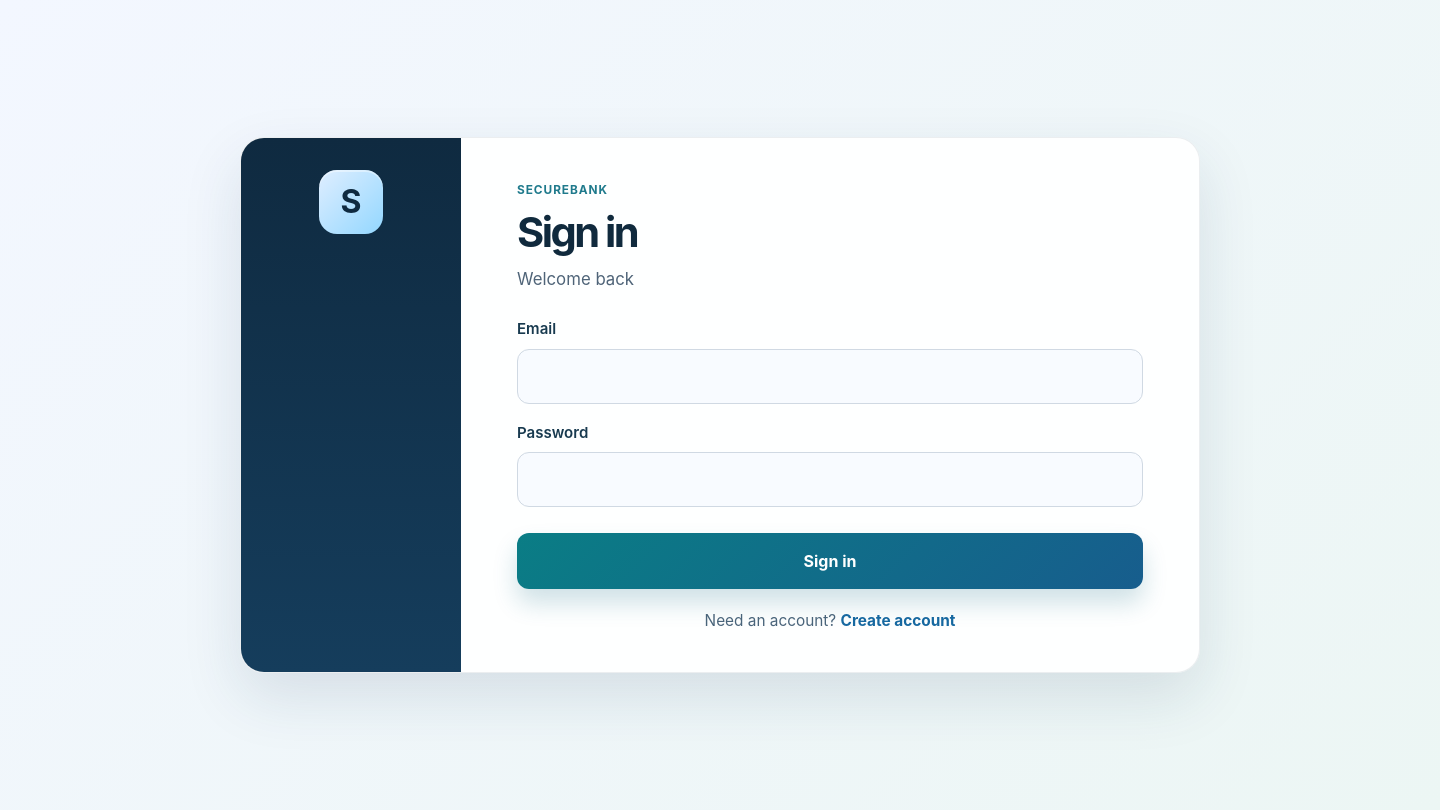
it: Signup screen › renders the dashboard after a successful sign in
This screenshot has width=1440, height=810.
Type "jane.doe@example.com" into the field labelled "Email". click: [830, 376]
box: 517,349 -> 1143,404
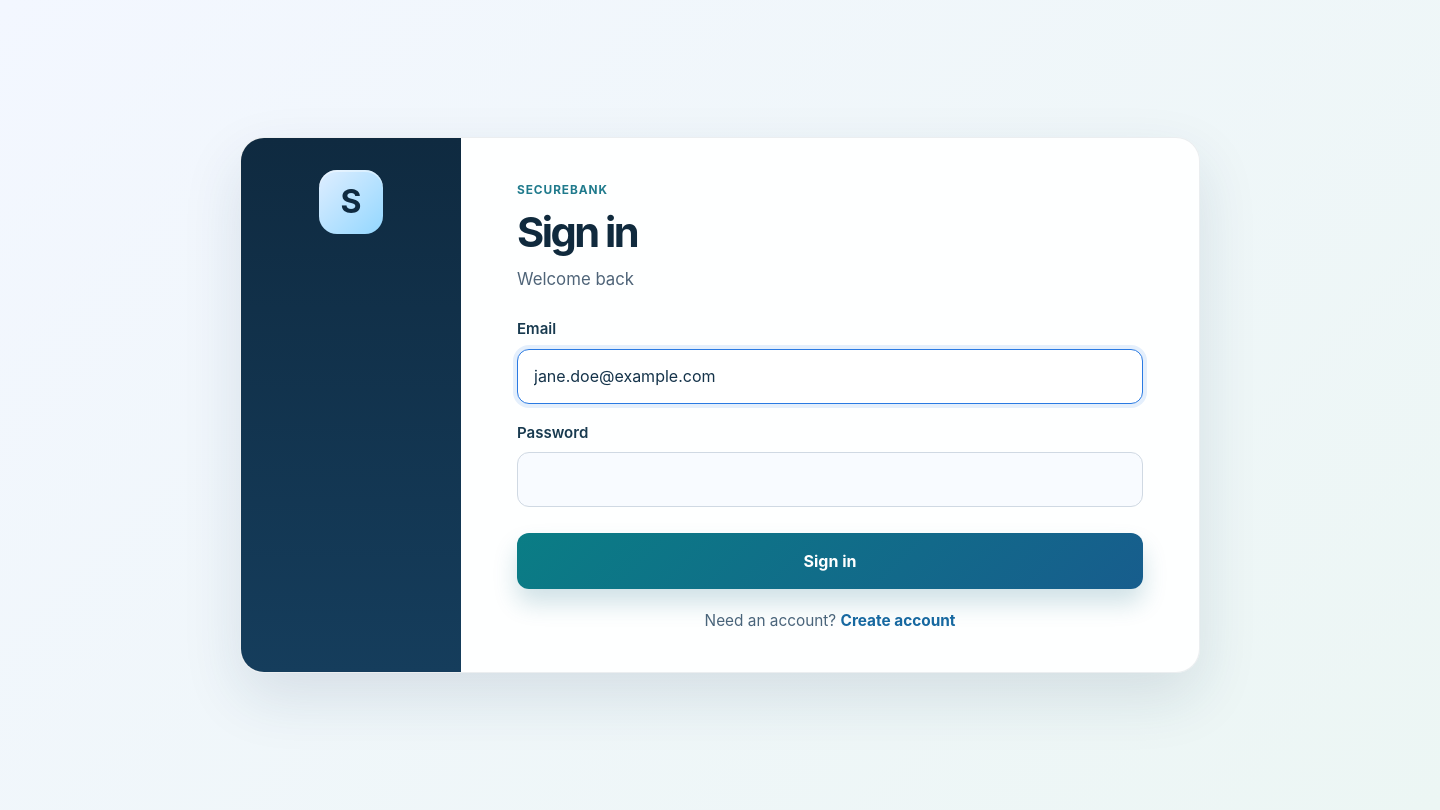
Type "SecurePass!123" into the password field labelled "Password". click: [830, 480]
box: 517,452 -> 1143,507
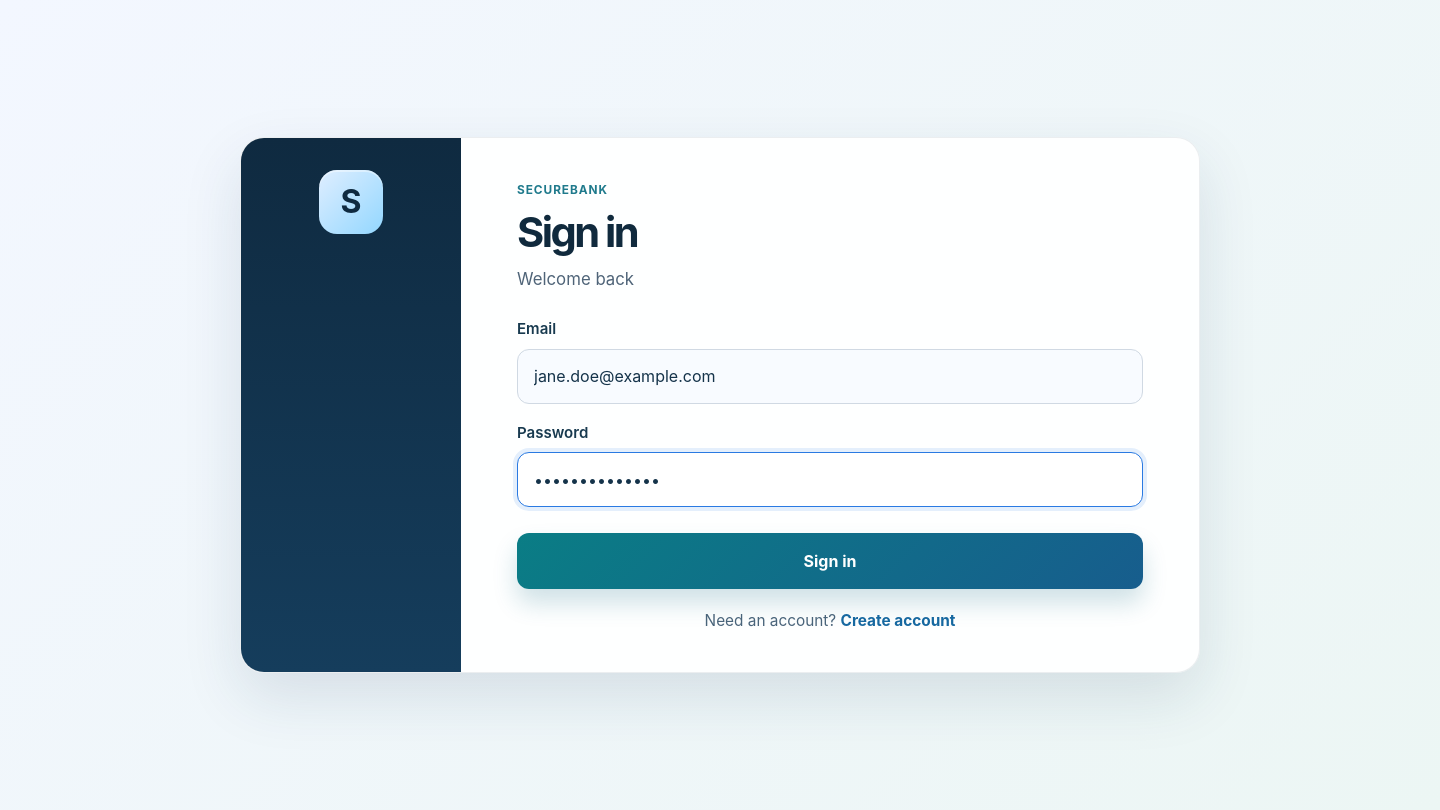
Click the button "Sign in". click: [830, 561]
box: 517,533 -> 1143,589
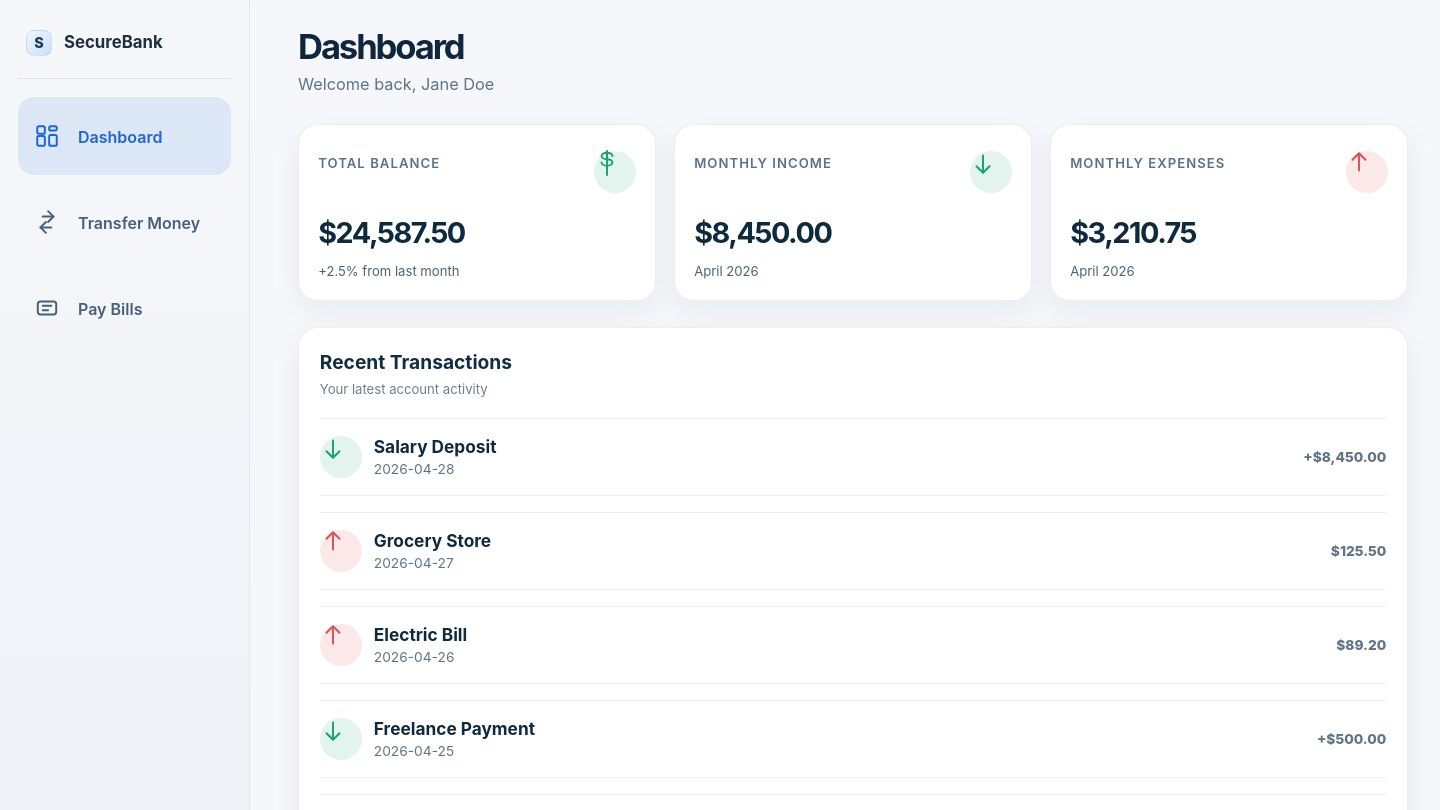
Expected: the heading "Dashboard" is shown, 298,28 -> 464,66
